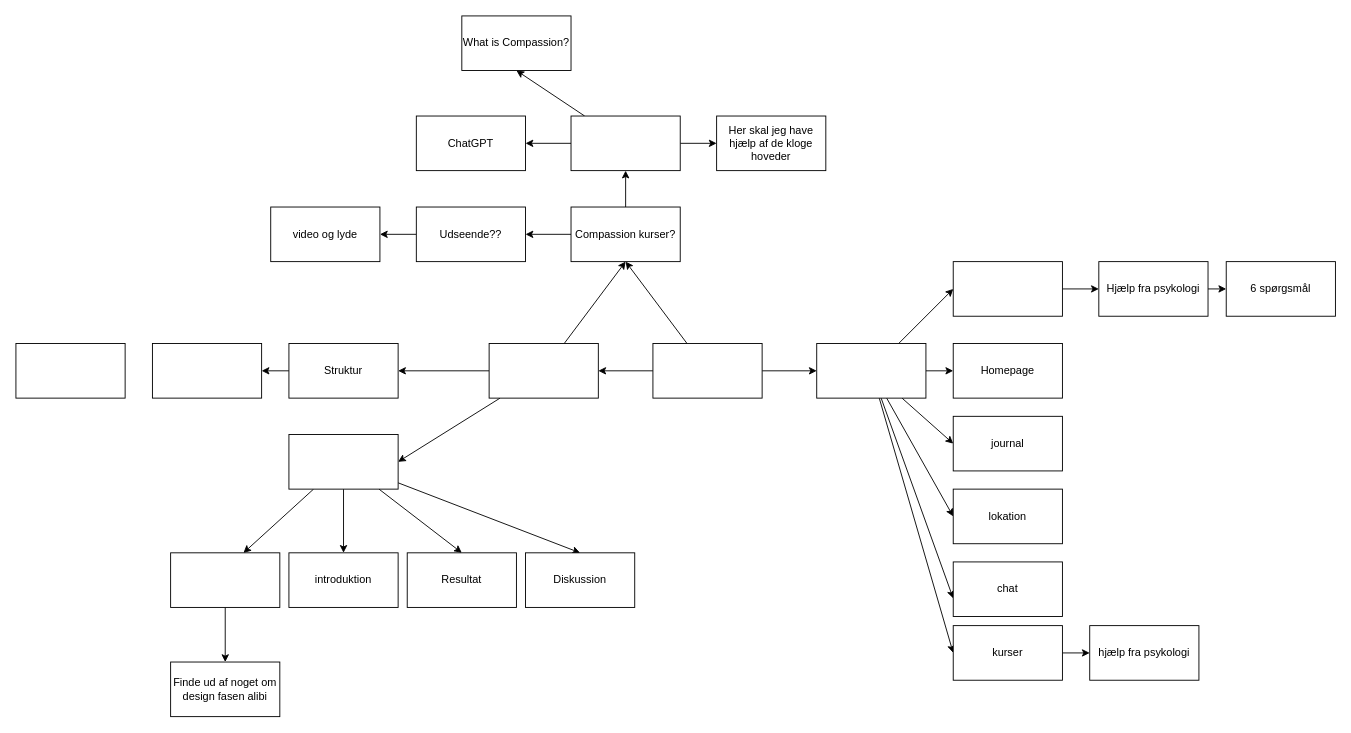
This 1351x733 diagram has some shape labels left out. Here are the shapes that lost their labels. From the top down, the centre of each, then its label:
At (625,143): "Finde ud af andre som du kan refere til".
At (1007,288): "Algoritme".
At (70,370): "Lav research og send til uffe".
At (207,370): "Agile?".
At (543,370): "Report".
At (707,370): "App".
At (871,370): "Pages".
At (343,461): "Indhold".
At (225,579): "metoder".
